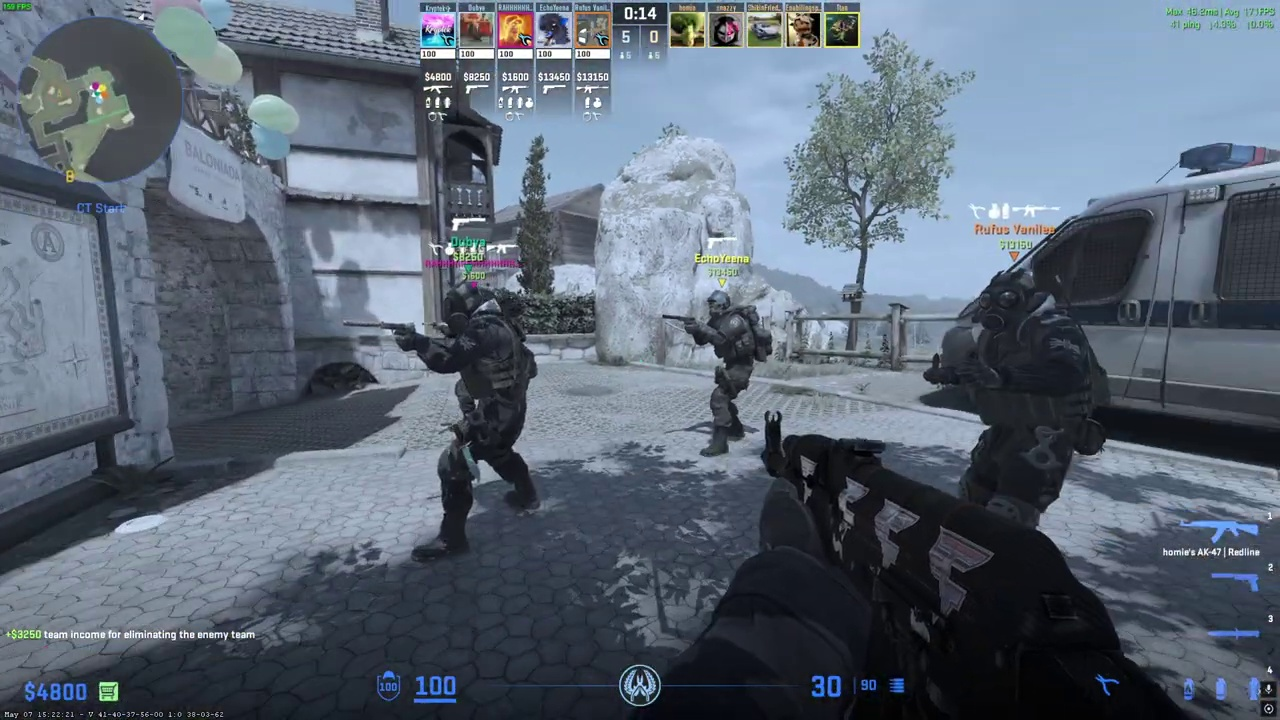CT: (941, 268, 1094, 523), (421, 285, 538, 549), (695, 290, 756, 455)
